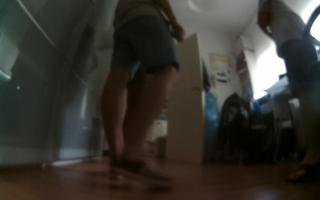person: (94, 1, 185, 191), (251, 1, 319, 188), (121, 57, 147, 150)
